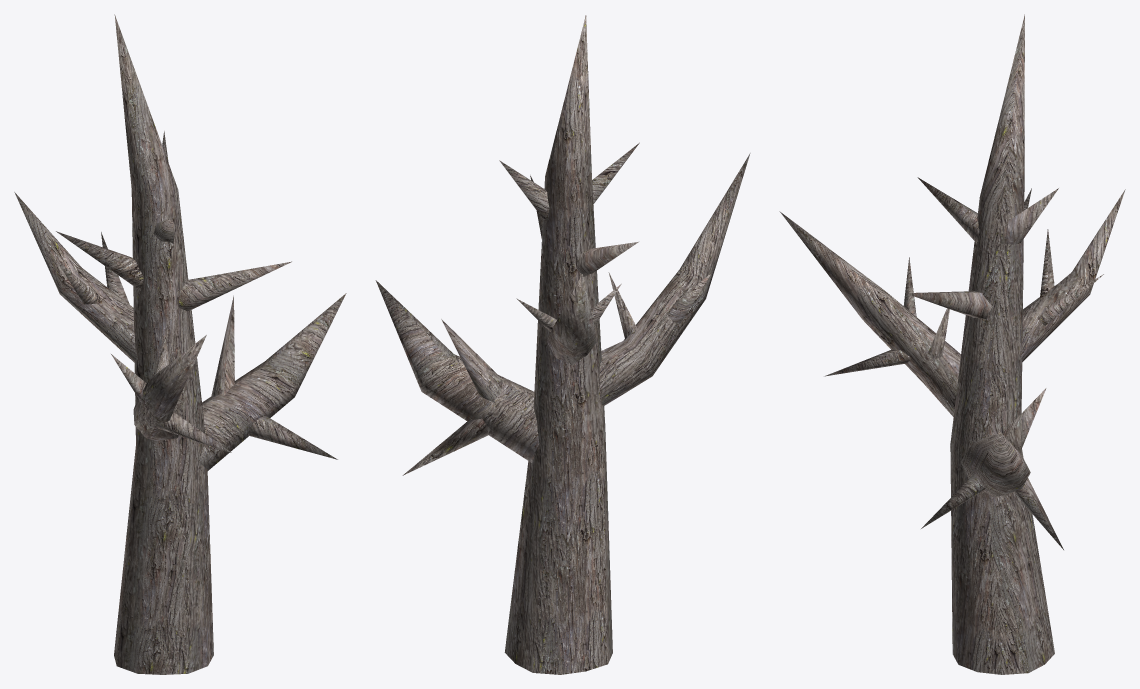
Rendered from DeadTree.obj.
3 views of the same model, side by side, from view 1: azimuth 30°, elevation 25°; view 2: azimuth 150°, elevation 25°; view 3: azimuth 270°, elevation 25° (orthographic). The views are drawn at different scales.
Parts seen in each view (by area): view 1: Circle_Circle.001; view 2: Circle_Circle.001; view 3: Circle_Circle.001.
Part boxes in pixels (x1,y1,x2,y2): Circle_Circle.001: (14,14,346,674); Circle_Circle.001: (375,15,750,674); Circle_Circle.001: (779,14,1125,674).
Size of the model in its own units: 6.41 by 13.89 by 7.
1 material, 1 textured.
